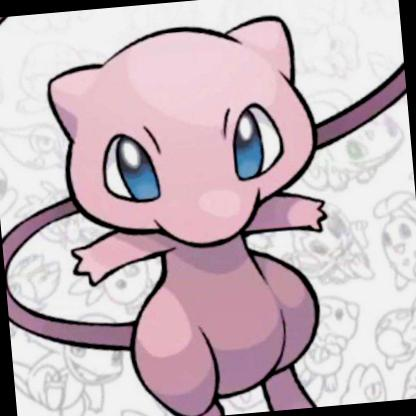Mew: (0, 0, 415, 404)
